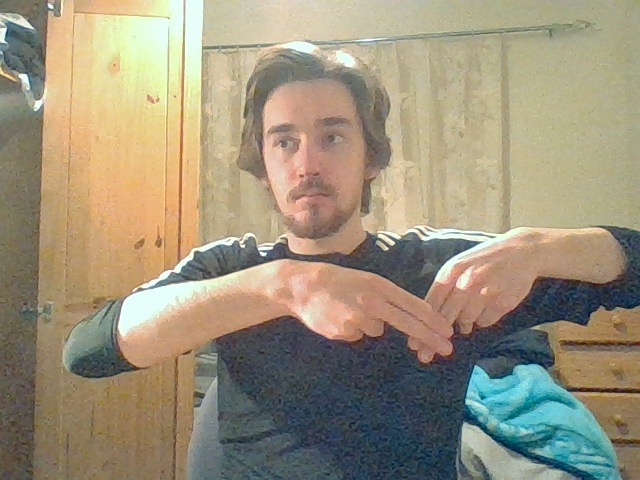father: (375, 263, 486, 364)
